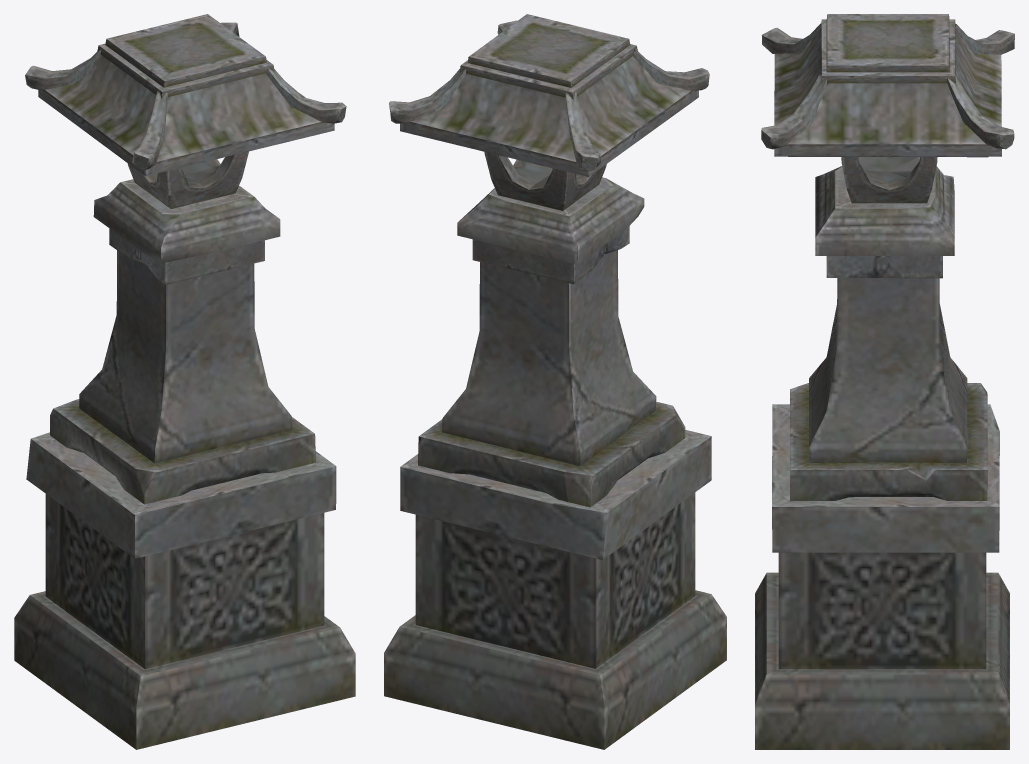
File: bujian9.FBX
3 renders of one model, left to right at view 1: azimuth 30°, elevation 25°; view 2: azimuth 150°, elevation 25°; view 3: azimuth 270°, elevation 25°, orthographic. The views are drawn at different scales.
Parts seen in each view (by area): view 1: Mesh_0024; view 2: Mesh_0024; view 3: Mesh_0024.
Boxes of the visible parts, <box> form: Mesh_0024: <box>14,14,355,749</box>; Mesh_0024: <box>384,14,726,749</box>; Mesh_0024: <box>755,14,1014,749</box>.
Bounding box in the file's own units: 2.42 × 6.63 × 2.38.
